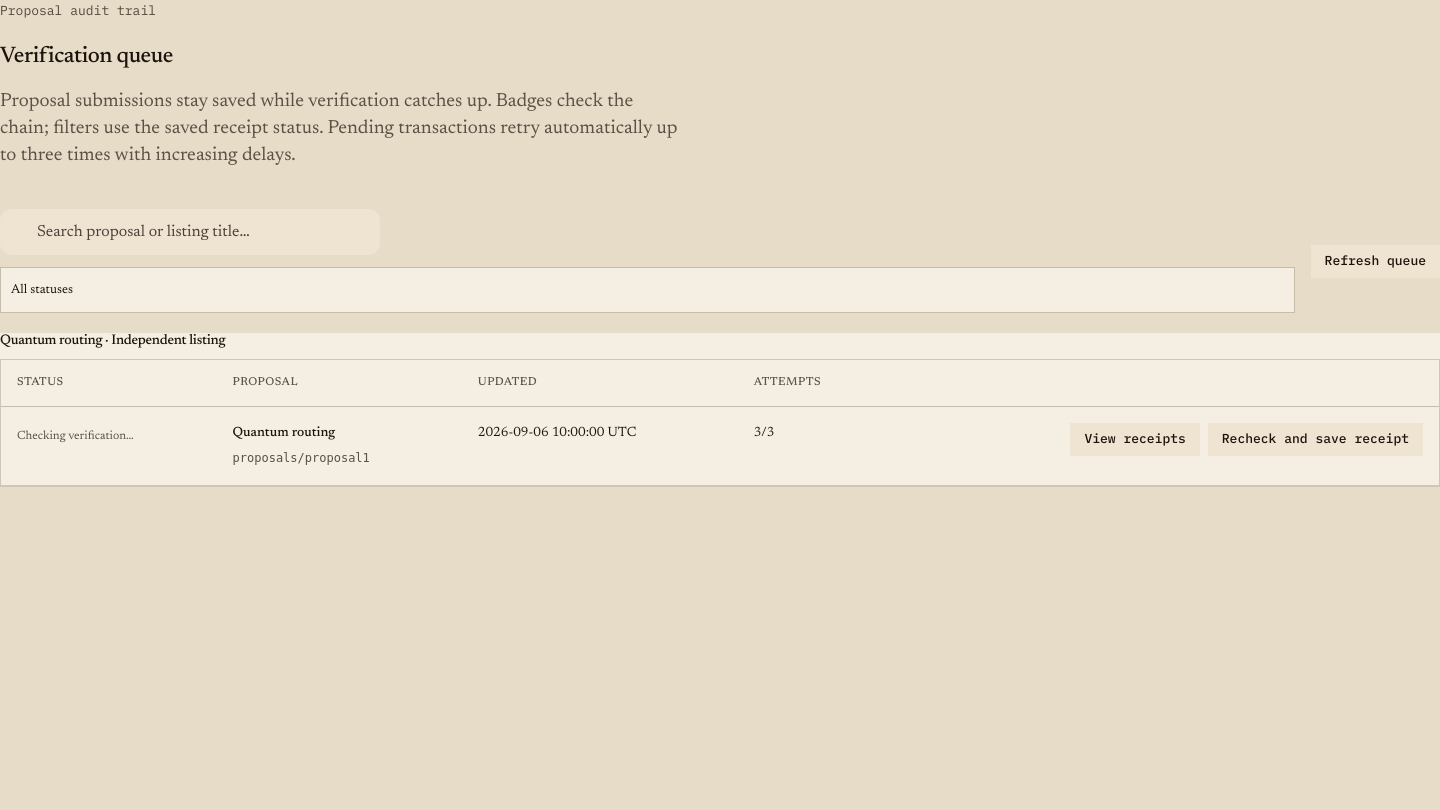
Test: opens the independent publication receipt with researcher context and no parent receipt
The image size is (1440, 810).
Click the button "View receipts": (1135, 440) [1070, 423, 1200, 456]
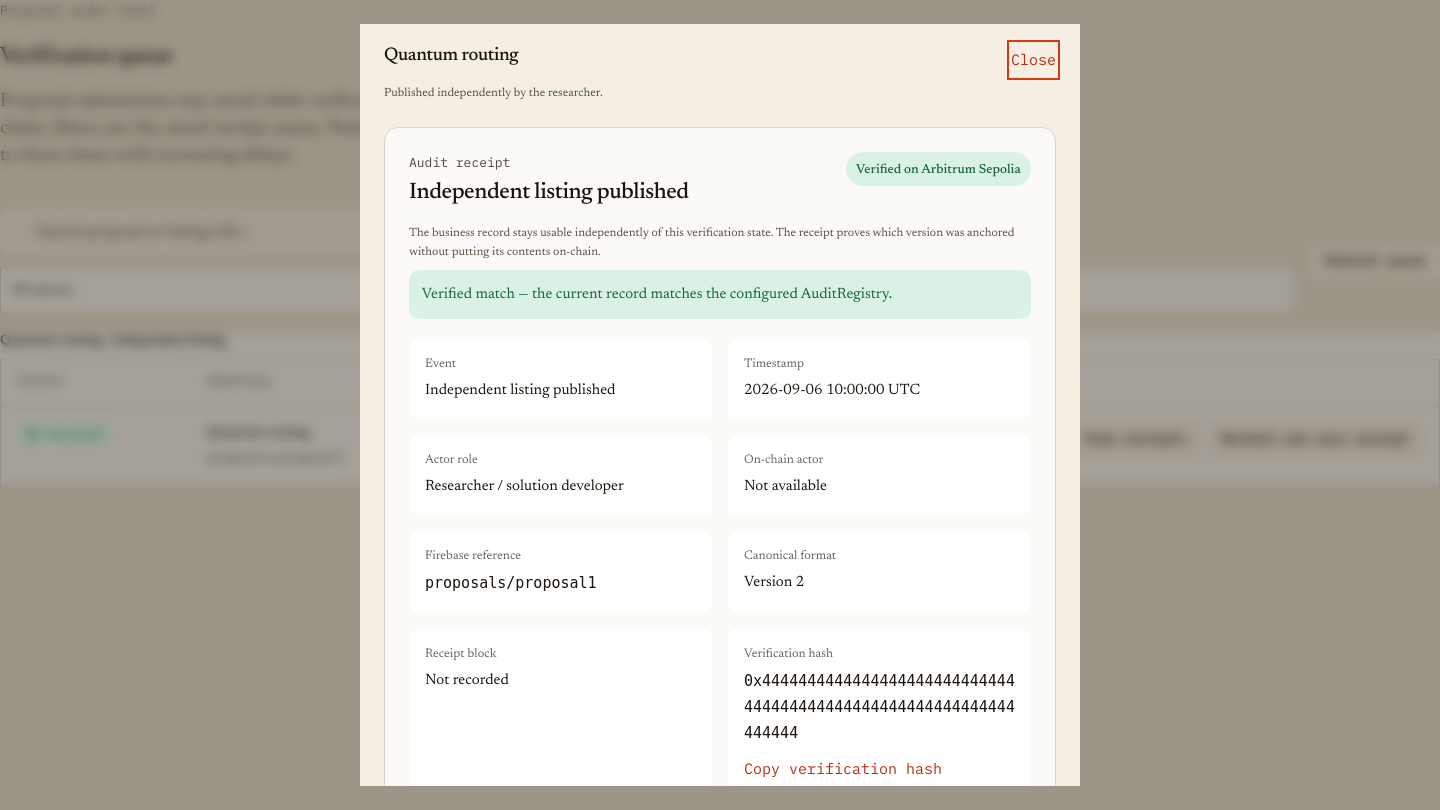
Now the heading "Independent listing published" is shown, box [409, 179, 689, 208]
Now the text "Published independently by the researcher." is shown, box [384, 87, 603, 99]
Now the text "Researcher / solution developer" is shown, box [425, 479, 624, 494]
